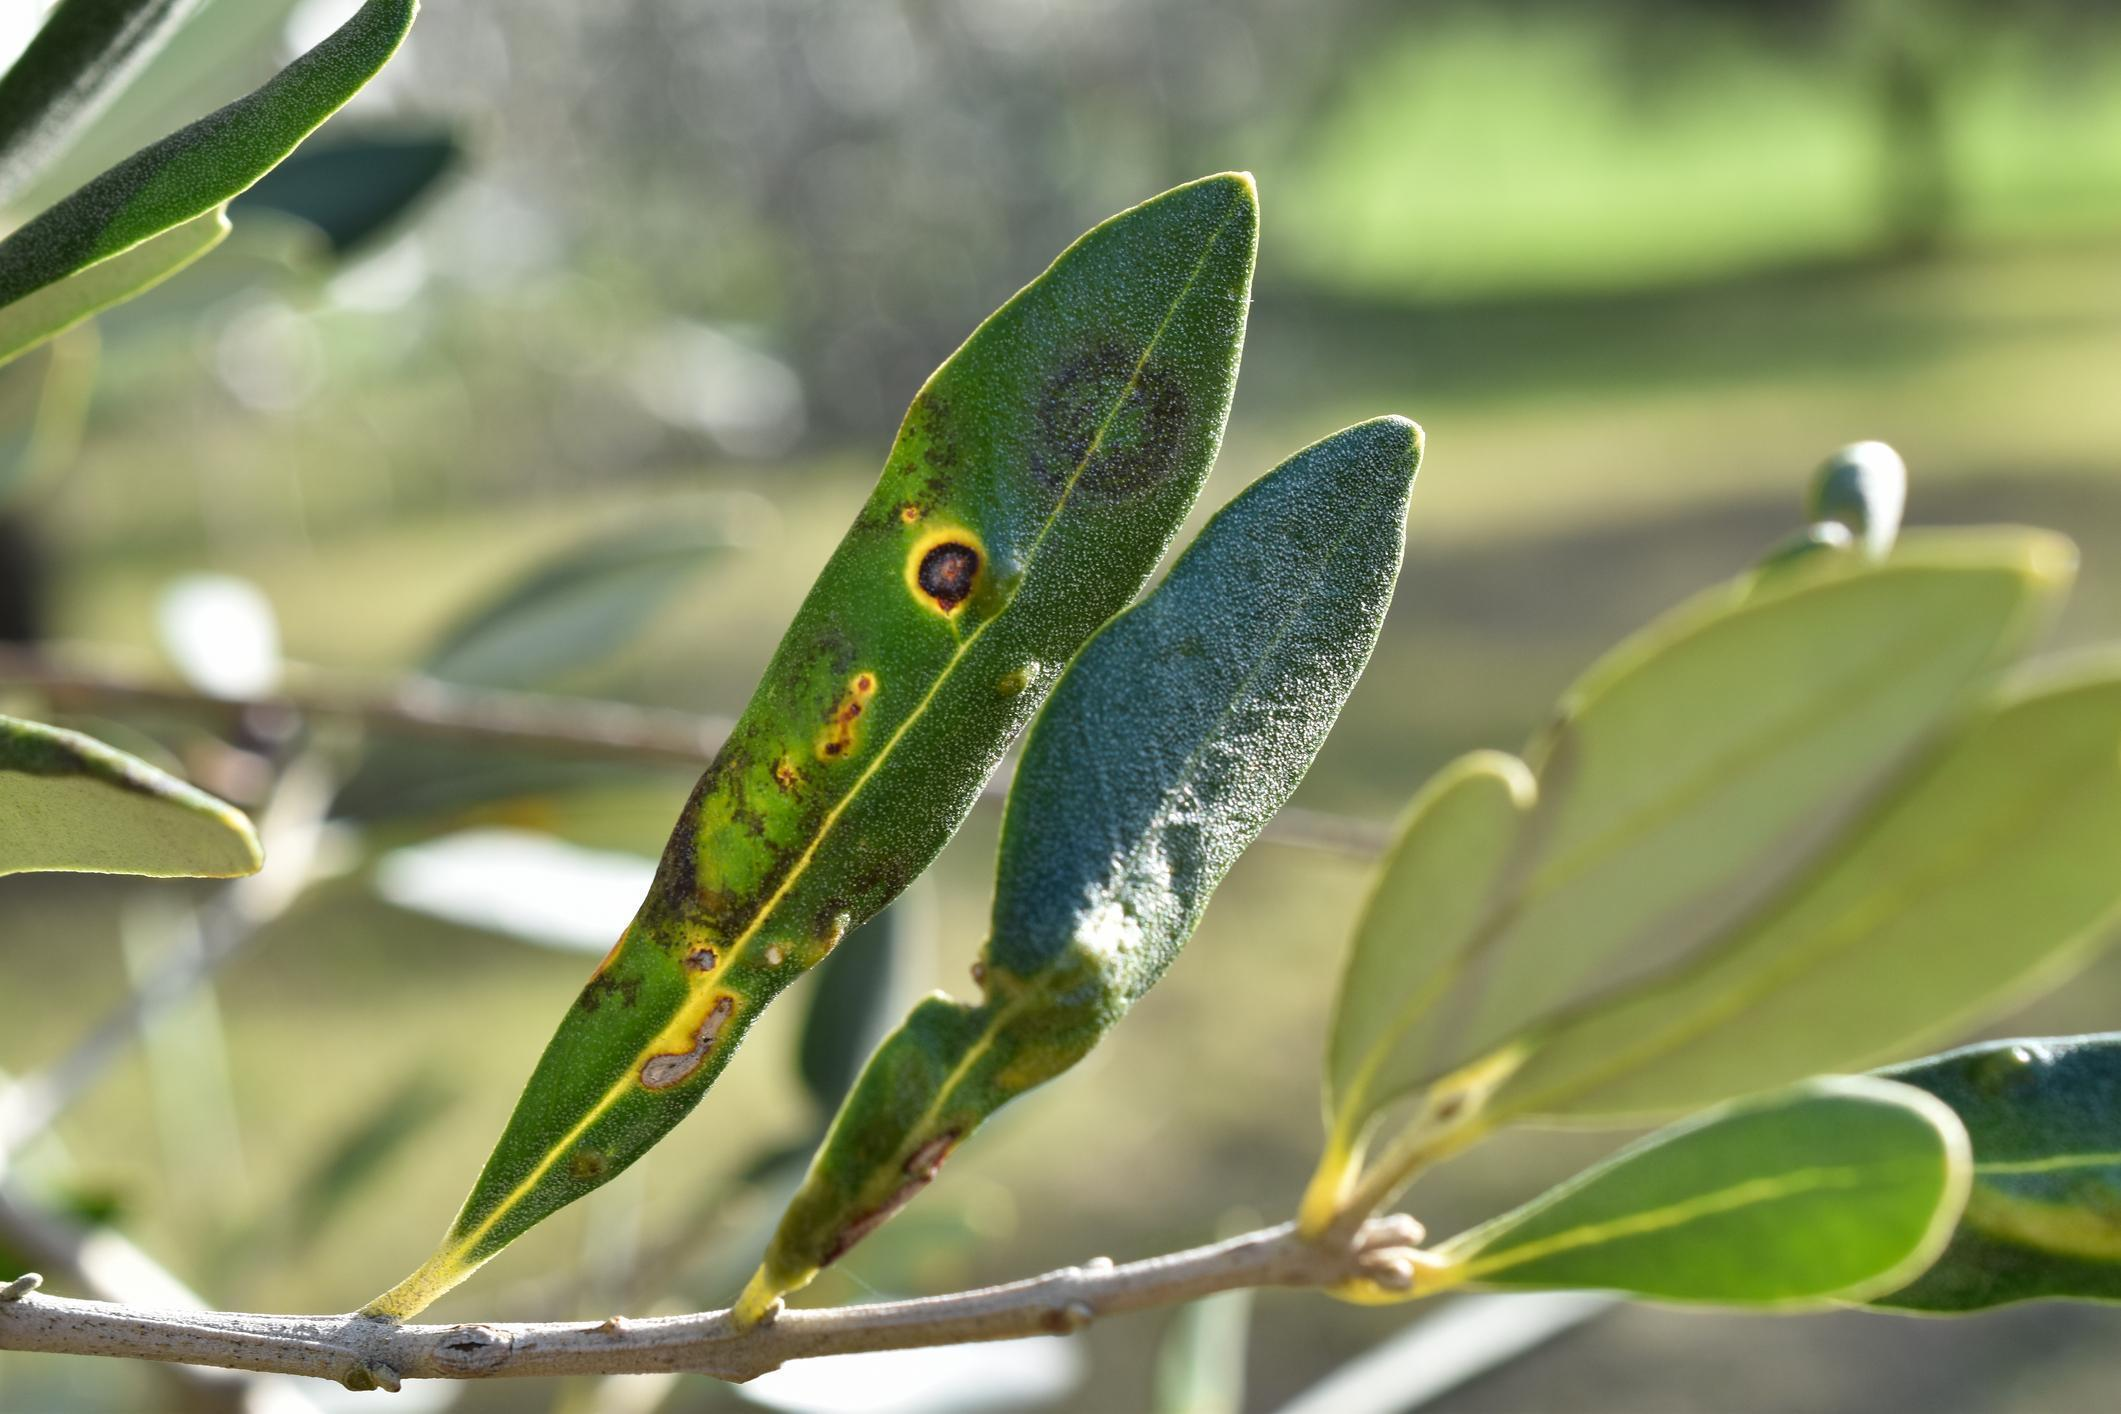OlivePeacockSpot: (431, 167, 1264, 1285), (756, 410, 1433, 1327)
